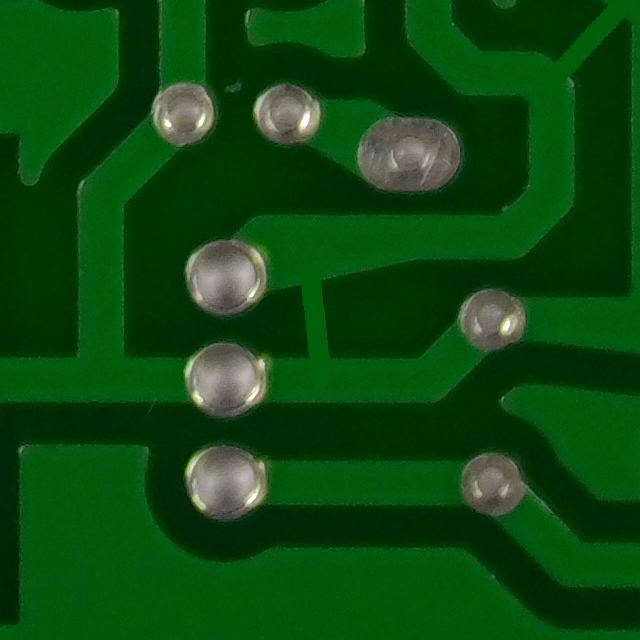short: (259, 251, 382, 390)
